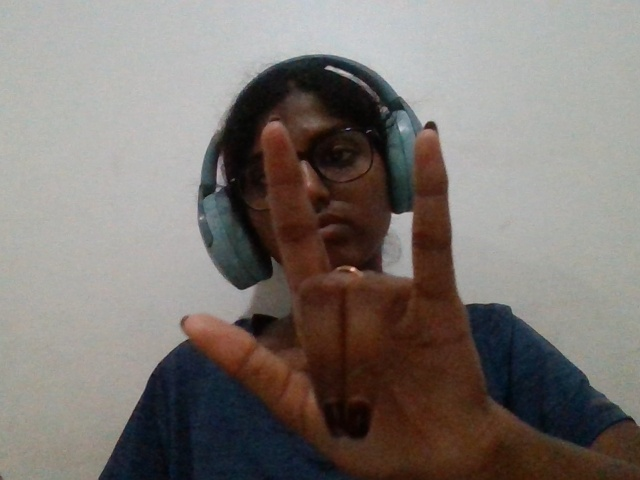I Love You: (139, 86, 602, 480)
